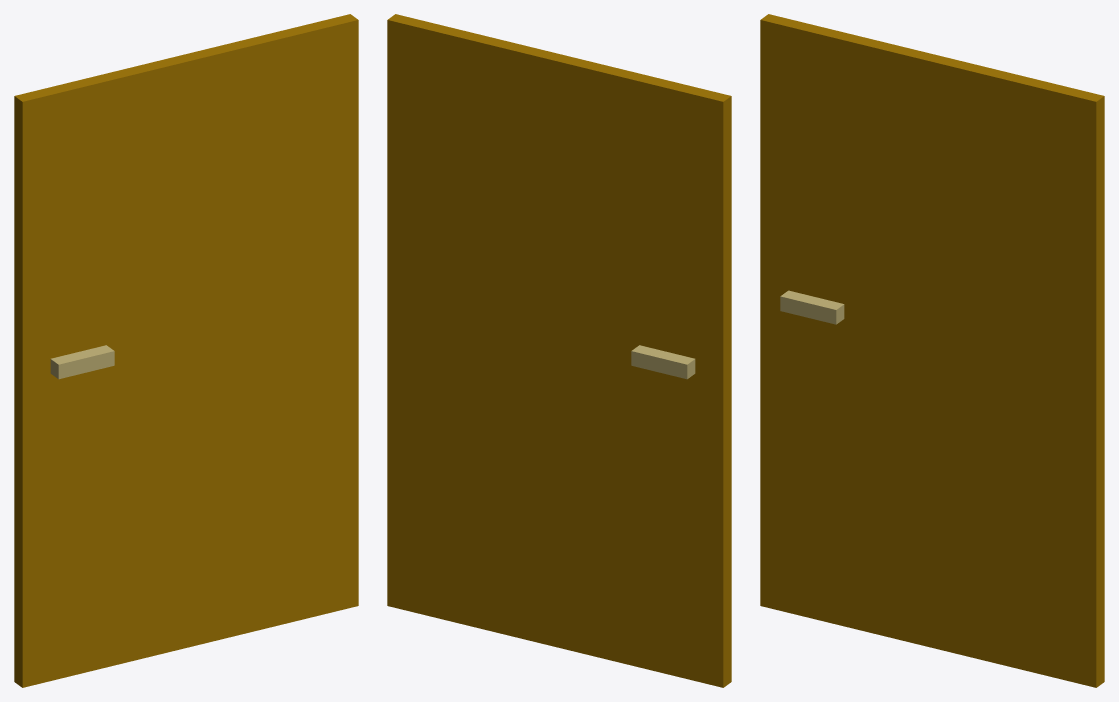
The model's file is Door00-0.gltf.
3 renders of one model, left to right at view 1: azimuth 30°, elevation 25°; view 2: azimuth 150°, elevation 25°; view 3: azimuth 330°, elevation 25°, orthographic.
Bounding box in the file's own units: 24 × 40 × 3.
